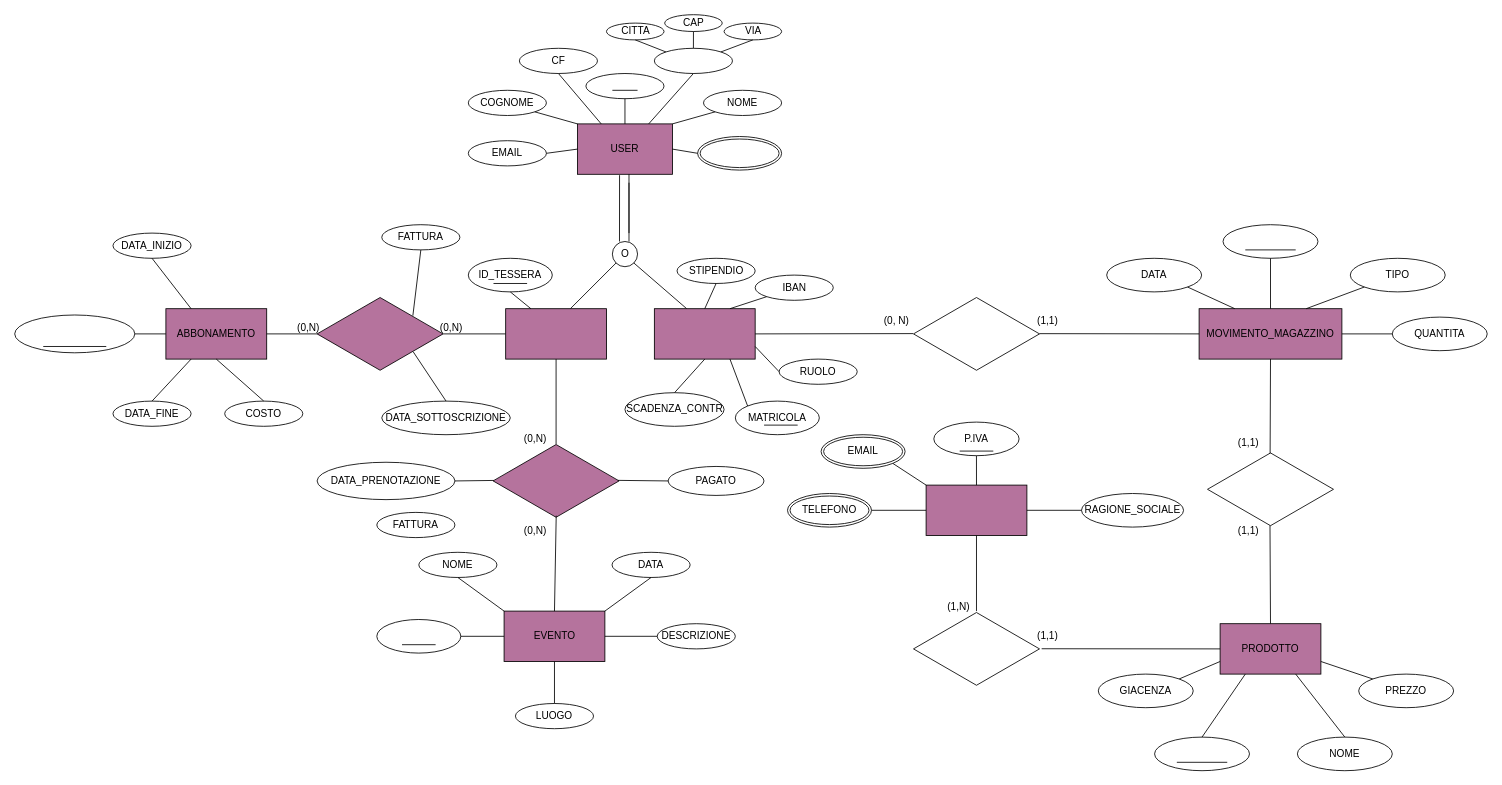
This 1502x785 diagram has some shape labels left out. Here are the shapes that lost their labels. From the top down, the box of each, then its label:
(654, 47, 732, 74): INDIRIZZO
(585, 73, 664, 99): ID
(697, 136, 782, 170): NUM_TEL
(1222, 224, 1318, 258): ID_MOVIMENTO
(14, 314, 135, 353): ID_ABBONAMENTO
(316, 295, 443, 372): SOTTOSCRIVE
(505, 308, 606, 359): SOCIO
(654, 308, 755, 359): DIPENDENTE
(913, 295, 1040, 372): REGISTRA
(492, 442, 619, 519): PARTECIPA
(1207, 451, 1334, 527): RIGUARDA
(925, 484, 1027, 536): FORNITORE
(376, 619, 461, 653): ID_EVENTO
(913, 610, 1040, 687): FORNISCE
(1154, 736, 1250, 771): ID_PROD
